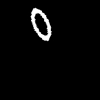chain: (31, 8, 50, 40)
